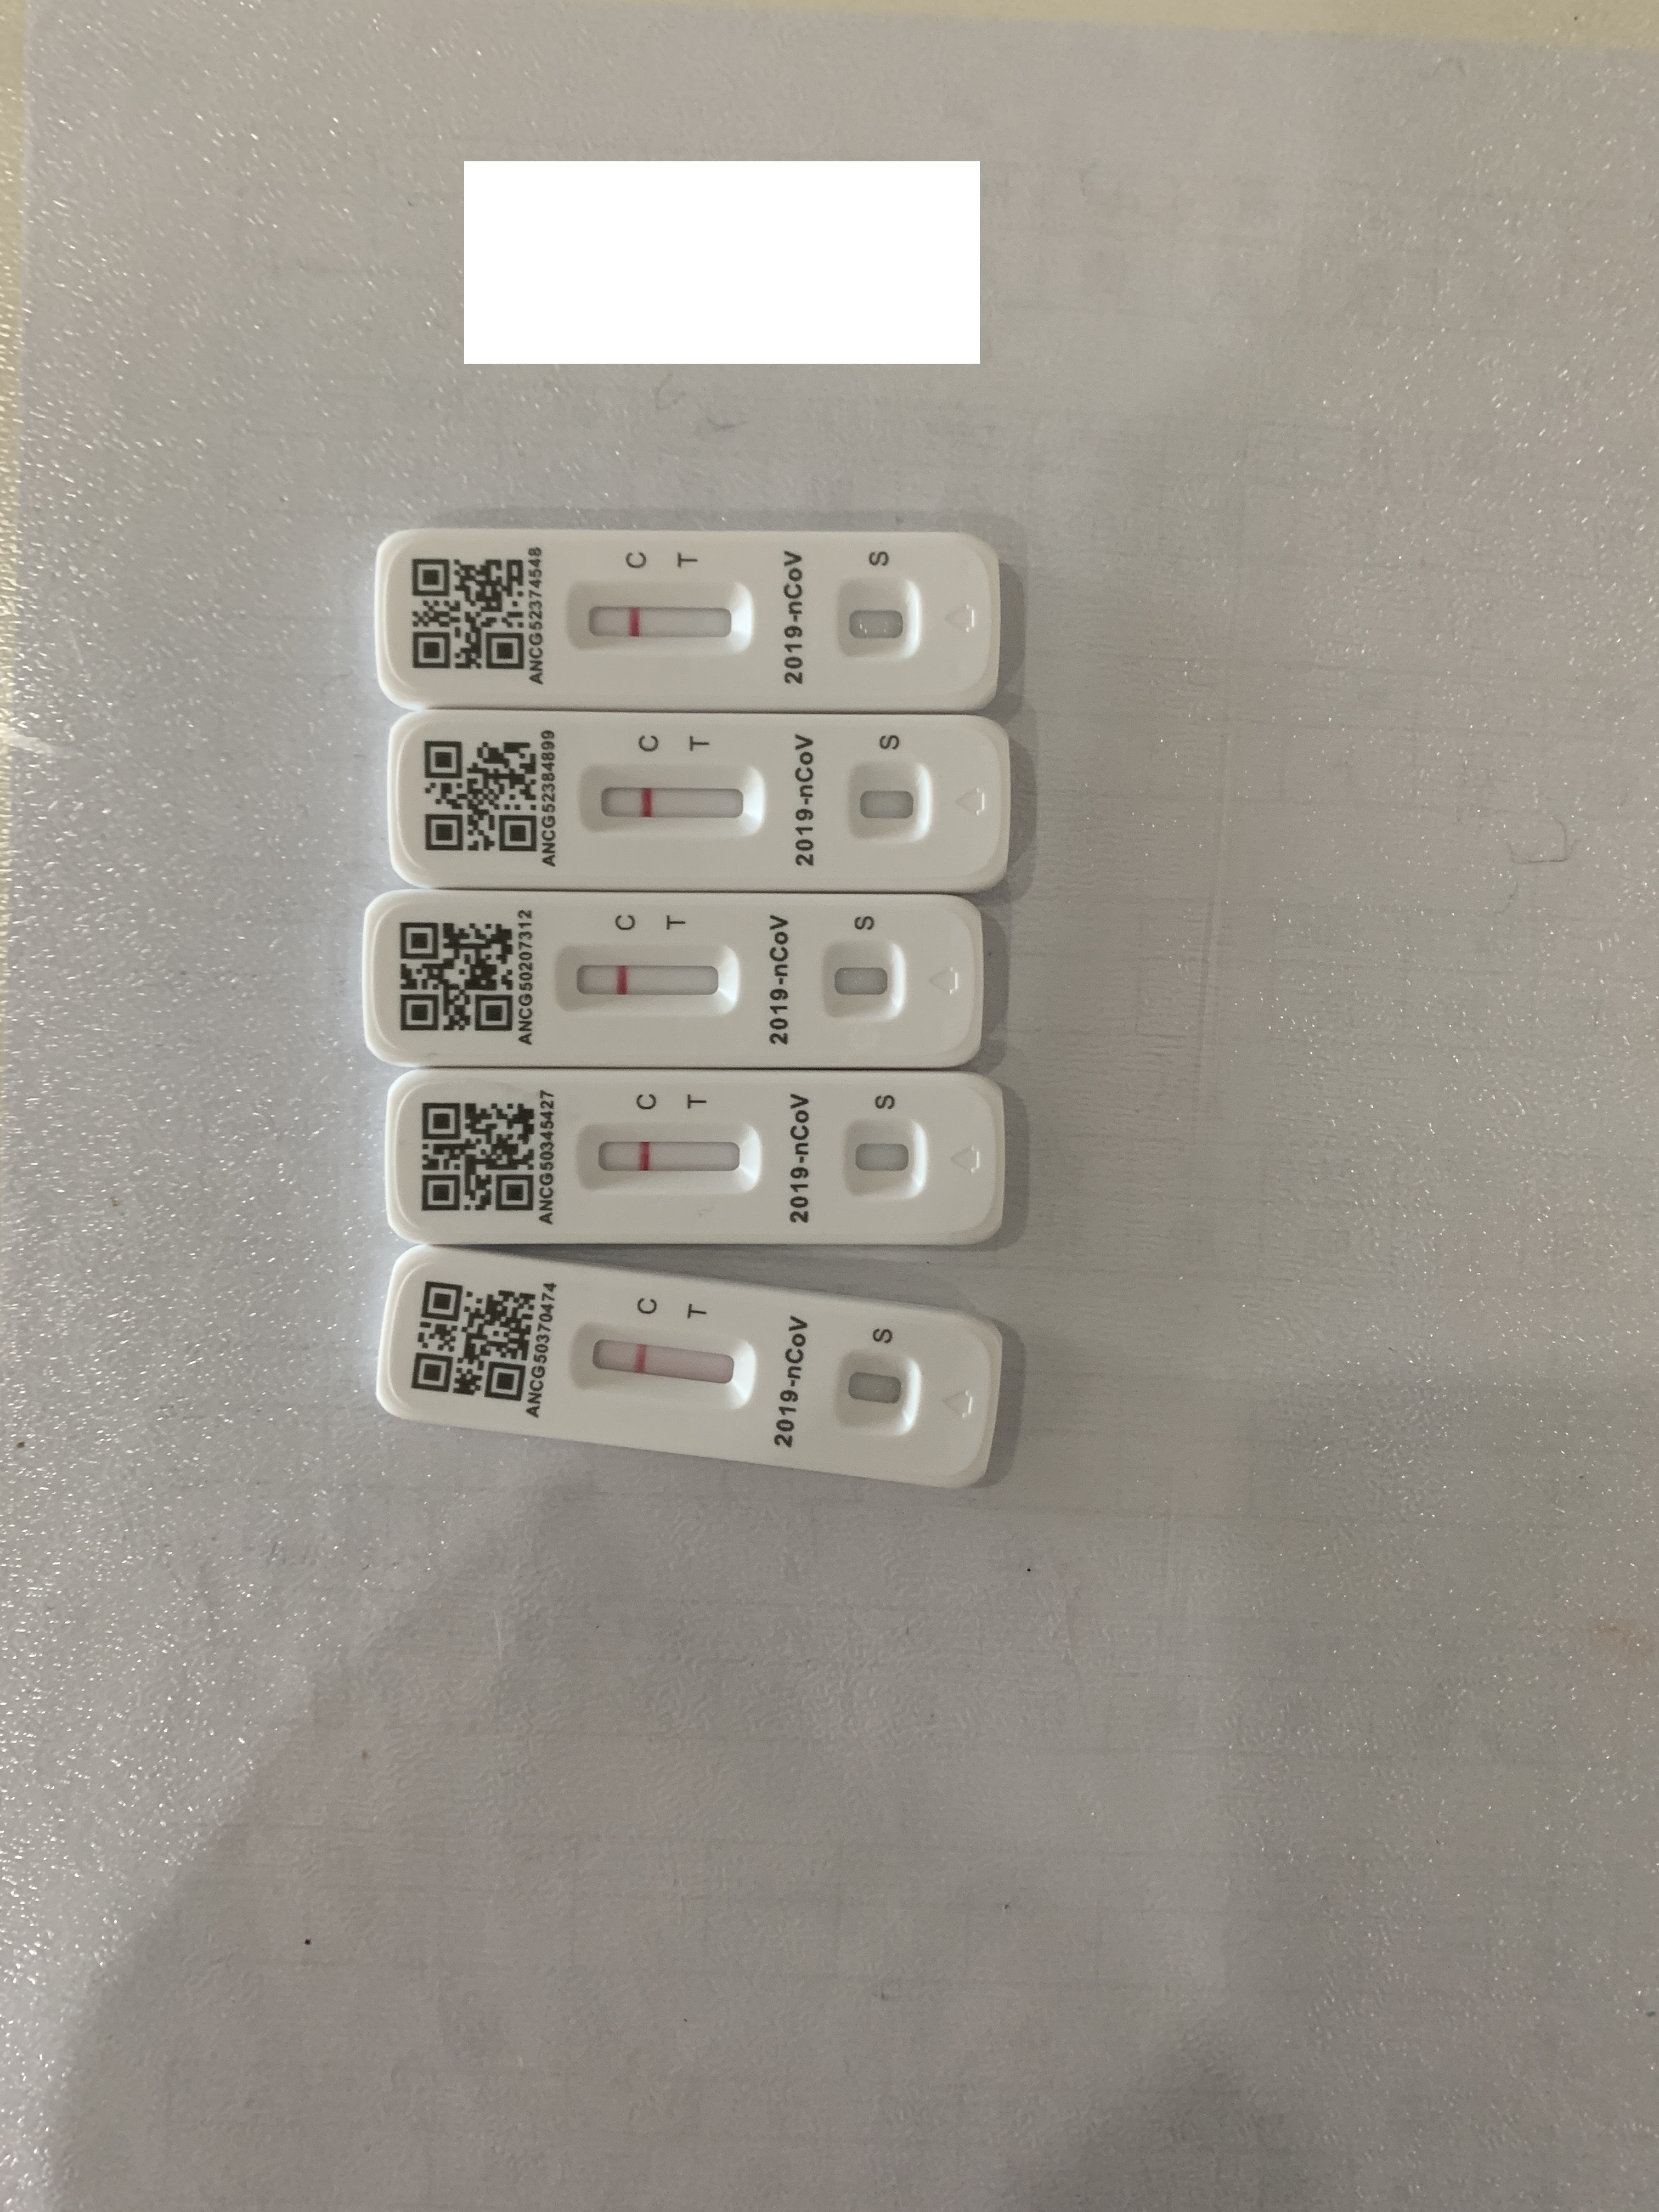negative: (579, 1324, 755, 1400), (566, 587, 749, 658), (582, 768, 755, 834), (565, 948, 732, 1010), (573, 1137, 755, 1190)
